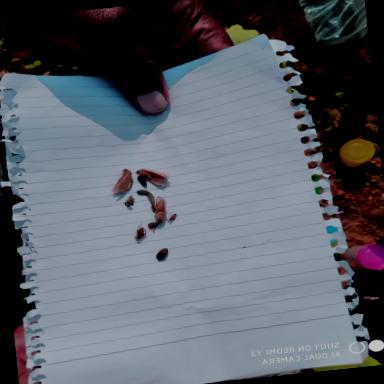abw: (136, 164, 172, 187), (106, 167, 136, 193), (150, 197, 170, 224)
